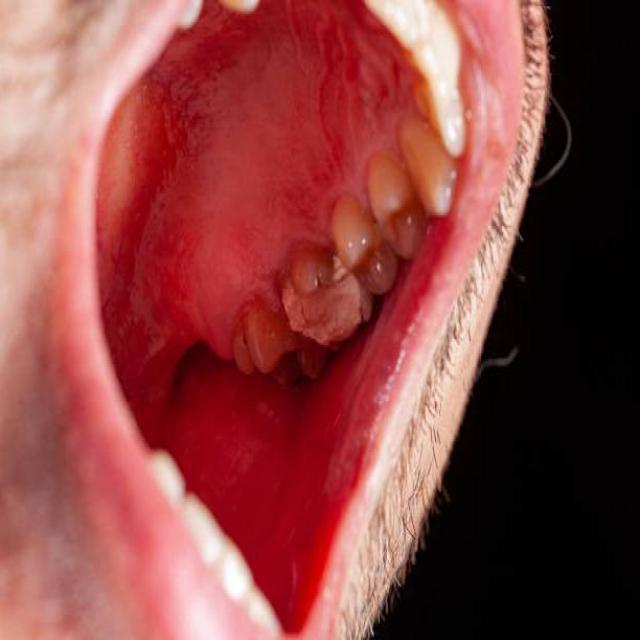caries: (276, 276, 366, 353), (232, 316, 254, 362)
